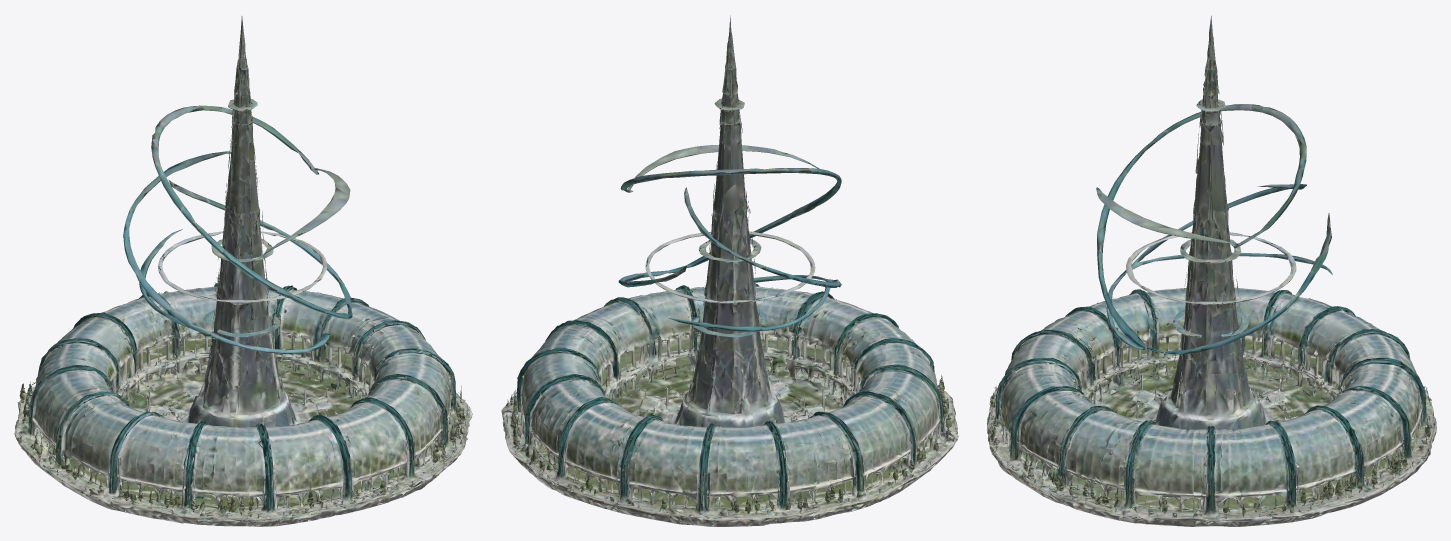
3 views of the same model, side by side, from view 1: azimuth 30°, elevation 25°; view 2: azimuth 150°, elevation 25°; view 3: azimuth 270°, elevation 25° (orthographic).
Parts seen in each view (by area): view 1: object 1, ring0, ring1, ring2; view 2: object 1, ring0, ring1, ring2; view 3: object 1, ring0, ring1, ring2.
Boxes of the visible parts, left/top/right/bottom form: object 1: left=14, top=16, right=472, bottom=526; ring0: left=151, top=105, right=352, bottom=318; ring1: left=123, top=151, right=330, bottom=354; ring2: left=158, top=231, right=326, bottom=303; object 1: left=501, top=15, right=958, bottom=526; ring0: left=618, top=145, right=841, bottom=287; ring1: left=668, top=187, right=841, bottom=332; ring2: left=645, top=231, right=815, bottom=303; object 1: left=987, top=15, right=1436, bottom=526; ring0: left=1096, top=104, right=1331, bottom=354; ring1: left=1106, top=184, right=1332, bottom=350; ring2: left=1126, top=232, right=1296, bottom=304.
Bounding box in the file's own units: 1.85 × 1.9 × 1.84.
Materials: 1 (1 with a texture image).
